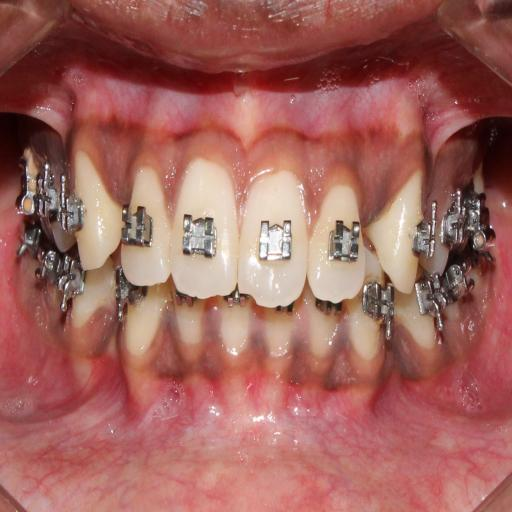correct_brace: (255, 216, 301, 271), (179, 208, 221, 264), (324, 215, 361, 267), (122, 200, 156, 249)
incorrect_brace: (310, 176, 367, 302), (118, 158, 172, 286)
